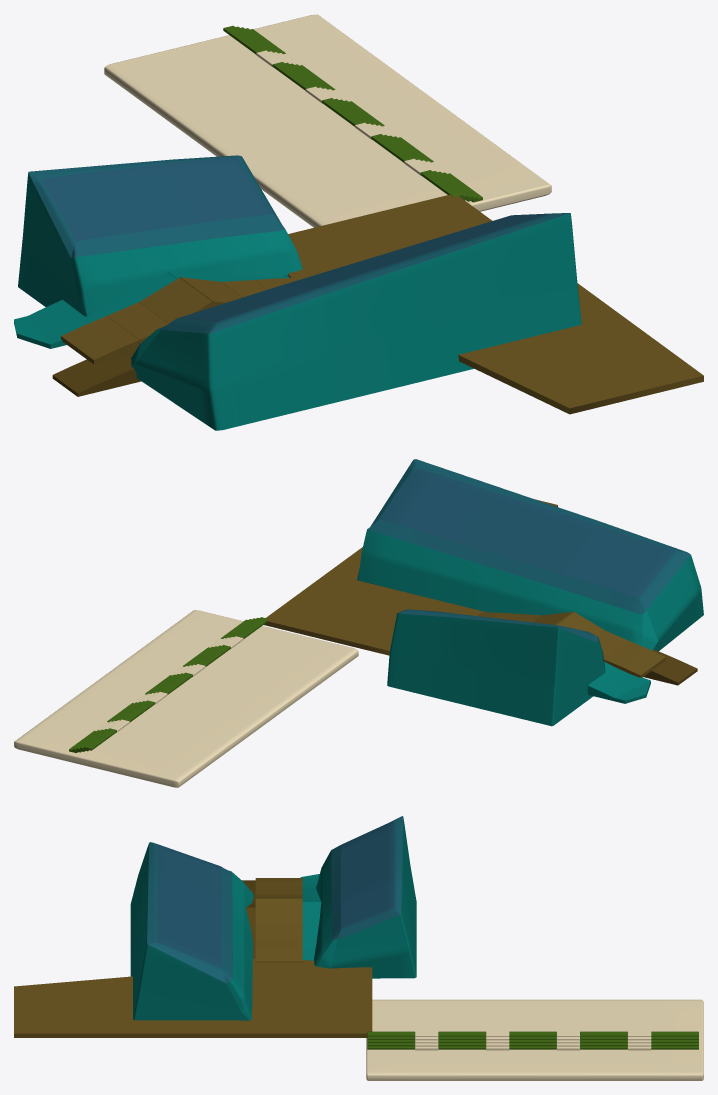
Rendered from all_ground.fbx.
The picture shows the model from 3 angles, top to bottom: view 1: azimuth 30°, elevation 25°; view 2: azimuth 150°, elevation 25°; view 3: azimuth 270°, elevation 25°; orthographic projection. The views are drawn at different scales.
Visible parts, largest first — view 1: s_Hillside, Trail, s_Hillside1, Open_space, Slope1, Grassland02, polySurface623, Grassland01, Slope, polySurface637, polySurface638, polySurface636 (+1 smaller); view 2: s_Hillside, Trail, s_Hillside1, Open_space, Slope1, polySurface623, Grassland02, Grassland01, Slope, polySurface637, polySurface638, polySurface635 (+1 smaller); view 3: Trail, s_Hillside, Open_space, s_Hillside1, Slope, polySurface623, polySurface638, Grassland02, polySurface637, polySurface635, polySurface636, Slope1 (+1 smaller).
Part boxes in pixels (x1,y1,x2,y2): s_Hillside: (131, 213, 581, 430); Trail: (104, 14, 551, 227); s_Hillside1: (18, 155, 302, 316); Open_space: (288, 194, 703, 414); Slope1: (61, 277, 213, 364); Grassland02: (14, 271, 289, 348); polySurface623: (223, 25, 463, 197); Grassland01: (52, 355, 141, 396); Slope: (180, 277, 301, 306); polySurface637: (245, 28, 478, 201); polySurface638: (250, 29, 482, 202); polySurface636: (241, 27, 473, 200); s_Hillside: (357, 459, 703, 651); Trail: (14, 610, 358, 787); s_Hillside1: (387, 609, 605, 726); Open_space: (264, 499, 557, 655); Slope1: (555, 611, 665, 677); polySurface623: (84, 617, 268, 750); Grassland02: (587, 662, 650, 703); Grassland01: (644, 649, 697, 685); Slope: (477, 612, 573, 624); polySurface637: (72, 619, 251, 752); polySurface638: (69, 619, 247, 752); polySurface635: (80, 617, 259, 751); Trail: (366, 999, 703, 1080); s_Hillside: (130, 842, 253, 1020); Open_space: (14, 959, 372, 1037); s_Hillside1: (313, 816, 416, 978); Slope: (255, 898, 302, 962); polySurface623: (367, 1031, 698, 1036); polySurface638: (367, 1046, 698, 1050); Grassland02: (300, 874, 321, 960); polySurface637: (367, 1043, 698, 1046); polySurface635: (367, 1036, 698, 1040); polySurface636: (367, 1040, 698, 1043); Slope1: (255, 878, 302, 898).
Bounding box in the file's own units: 353 × 75.34 × 520.
